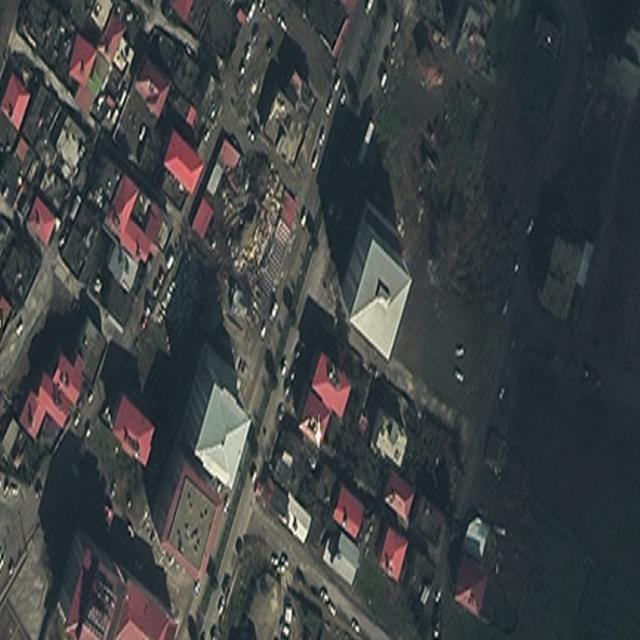Rubble: (228, 170, 280, 261)
